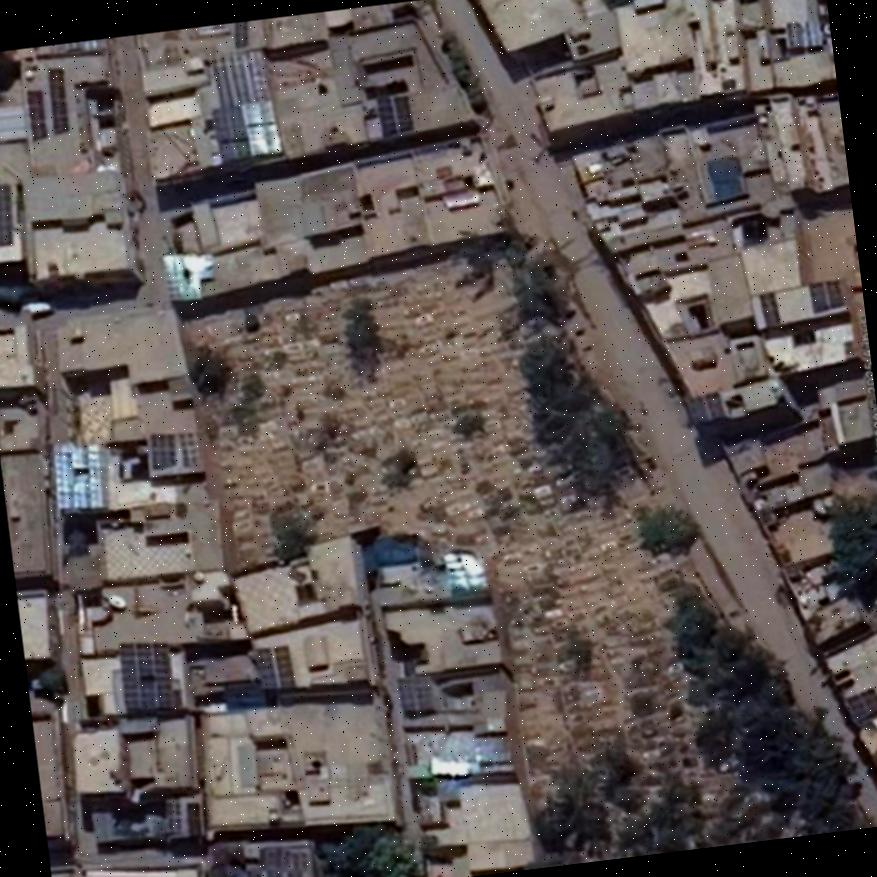Solarpanel: (211, 99, 281, 160), (212, 46, 269, 109), (119, 644, 172, 707), (51, 444, 102, 506), (163, 254, 198, 302), (375, 96, 413, 138), (256, 647, 292, 689), (48, 68, 67, 134), (398, 677, 431, 709), (25, 91, 43, 139), (151, 434, 172, 468), (0, 185, 10, 244), (166, 801, 178, 833), (246, 869, 258, 877), (287, 872, 303, 877), (266, 871, 279, 877)
